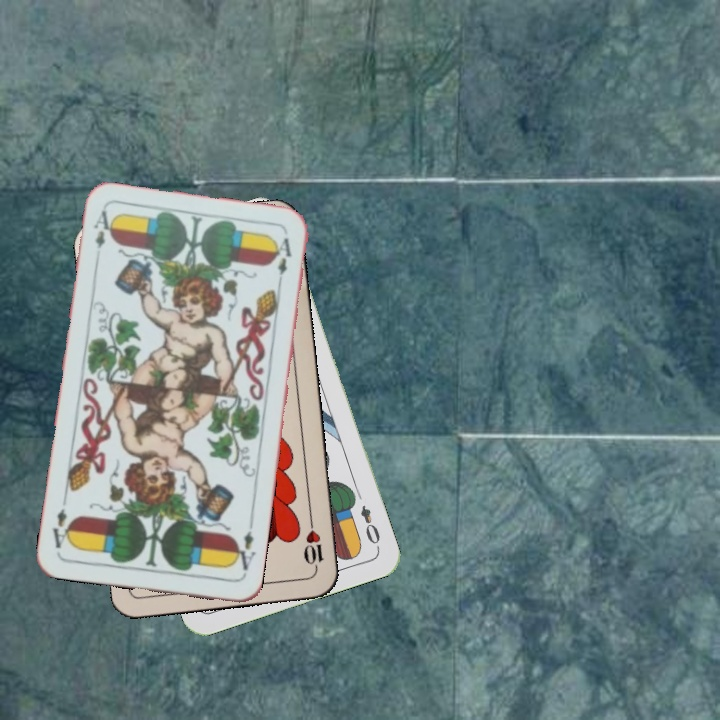EA: (89, 206, 117, 265), (229, 519, 258, 573)
EO: (356, 501, 383, 552)
H10: (300, 513, 327, 572)
